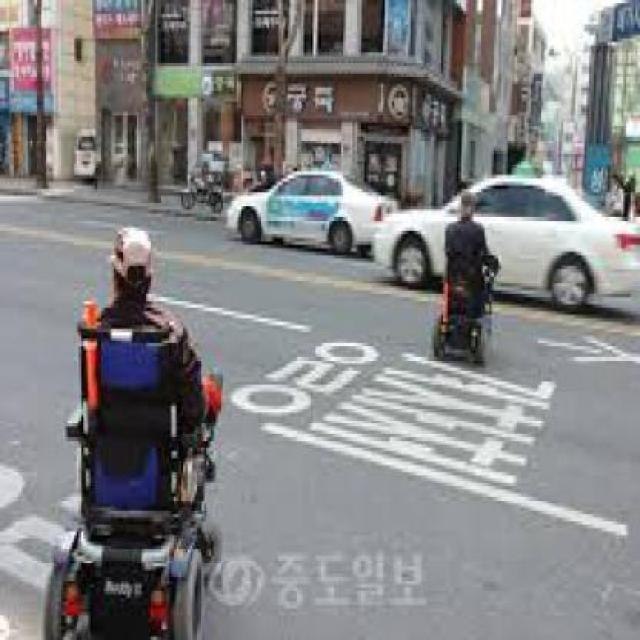Person: (42, 224, 222, 636), (434, 190, 498, 364)
